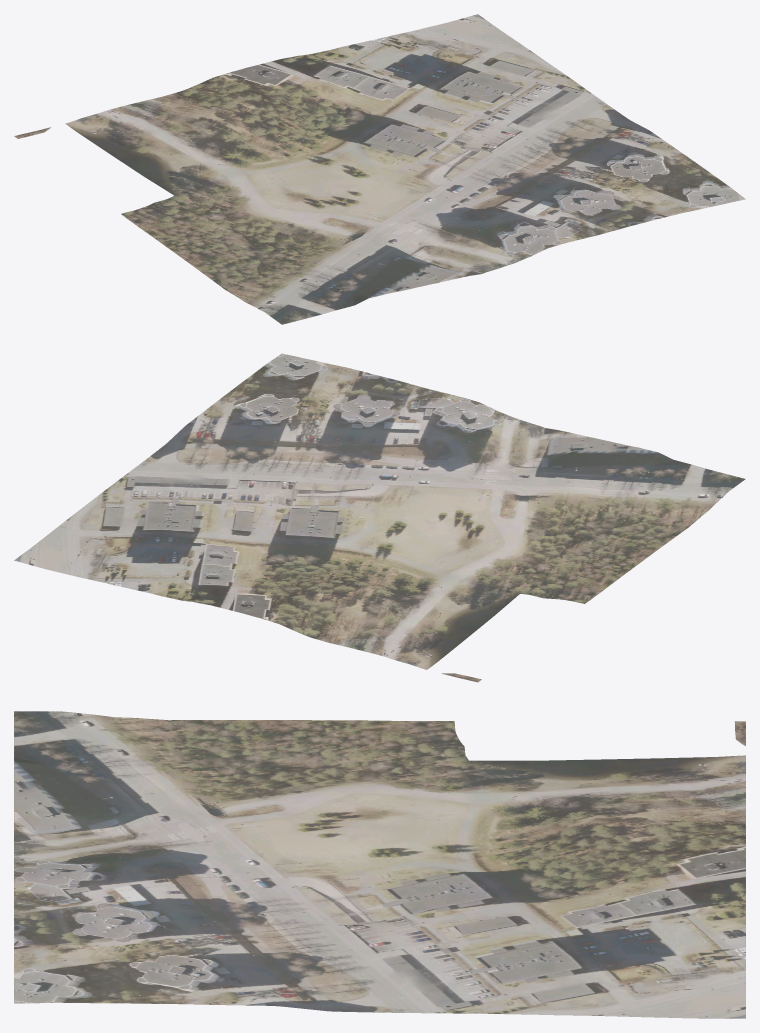
Rendered from CM_Terrain_24491892_6815288.fbx.
3 views of the same model, one above another, from view 1: azimuth 30°, elevation 25°; view 2: azimuth 150°, elevation 25°; view 3: azimuth 270°, elevation 25° (orthographic). The views are drawn at different scales.
Visible parts, largest first — view 1: CM_Terrain_24491892_6815288_LOD0; view 2: CM_Terrain_24491892_6815288_LOD0; view 3: CM_Terrain_24491892_6815288_LOD0.
Part boxes in pixels (<box>): CM_Terrain_24491892_6815288_LOD0: <box>14,14,745,324</box>; CM_Terrain_24491892_6815288_LOD0: <box>14,353,745,682</box>; CM_Terrain_24491892_6815288_LOD0: <box>14,711,745,1018</box>.
Size of what is drawn, in the model's own units: 205 by 9.57 by 205.
